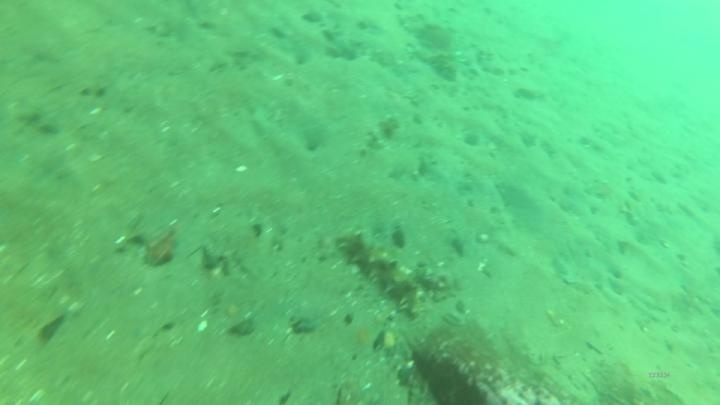holothurian: (335, 225, 430, 321)
